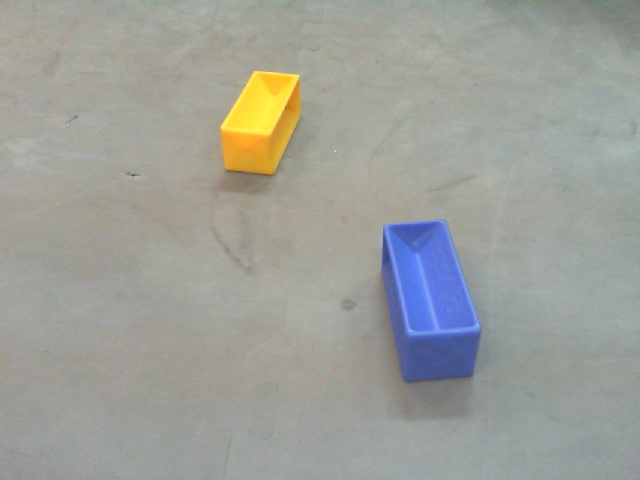BlueSample: (379, 217, 481, 387)
YellowSample: (218, 66, 305, 182)
